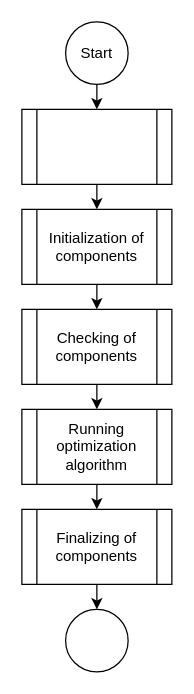
The diagram is 194 pixels wide and 694 high, and some of its shapes have lost their labels. Here are the shapes that lost their labels. From the top down, the box of each, then its label:
(21, 108, 172, 184): Construction of components
(64, 608, 128, 672): End
